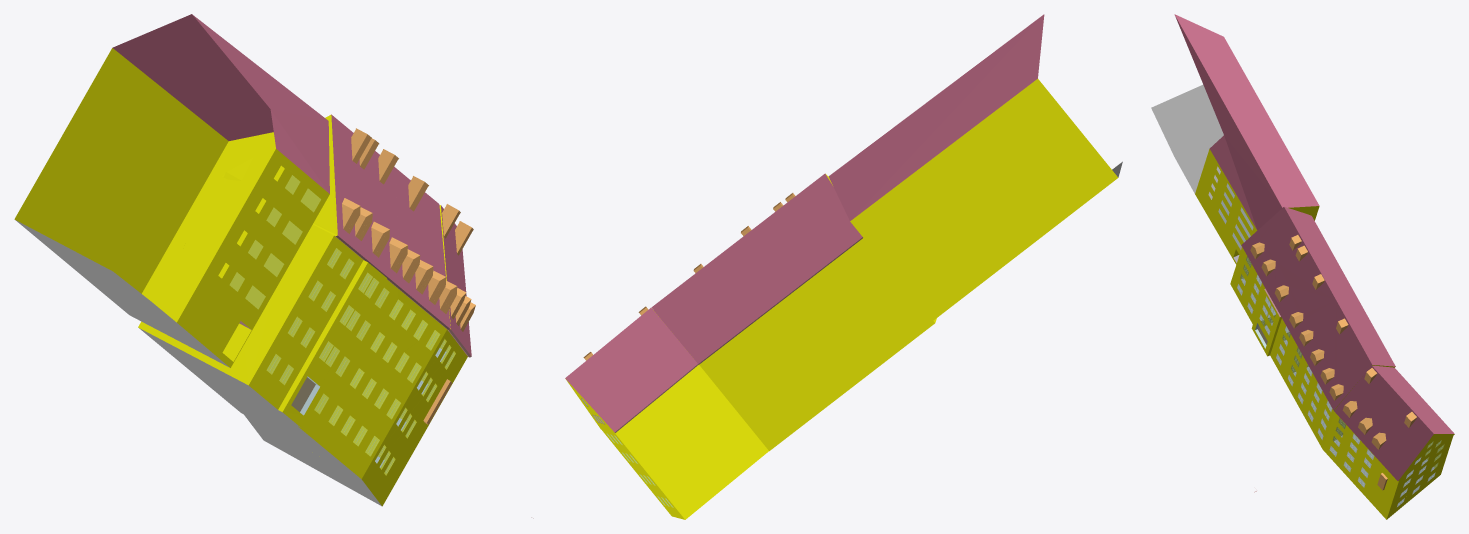
3 views of the same model, side by side, from view 1: azimuth 30°, elevation 25°; view 2: azimuth 150°, elevation 25°; view 3: azimuth 270°, elevation 25° (orthographic). The views are drawn at different scales.
Visible parts, largest first — view 1: mesh; view 2: mesh; view 3: mesh.
Boxes of the visible parts, x1=… form: mesh: x1=14, y1=14, x2=533, y2=518; mesh: x1=565, y1=14, x2=1122, y2=519; mesh: x1=1151, y1=14, x2=1454, y2=519.
Size of the model in its own units: 54.65 by 58.41 by 39.96.
